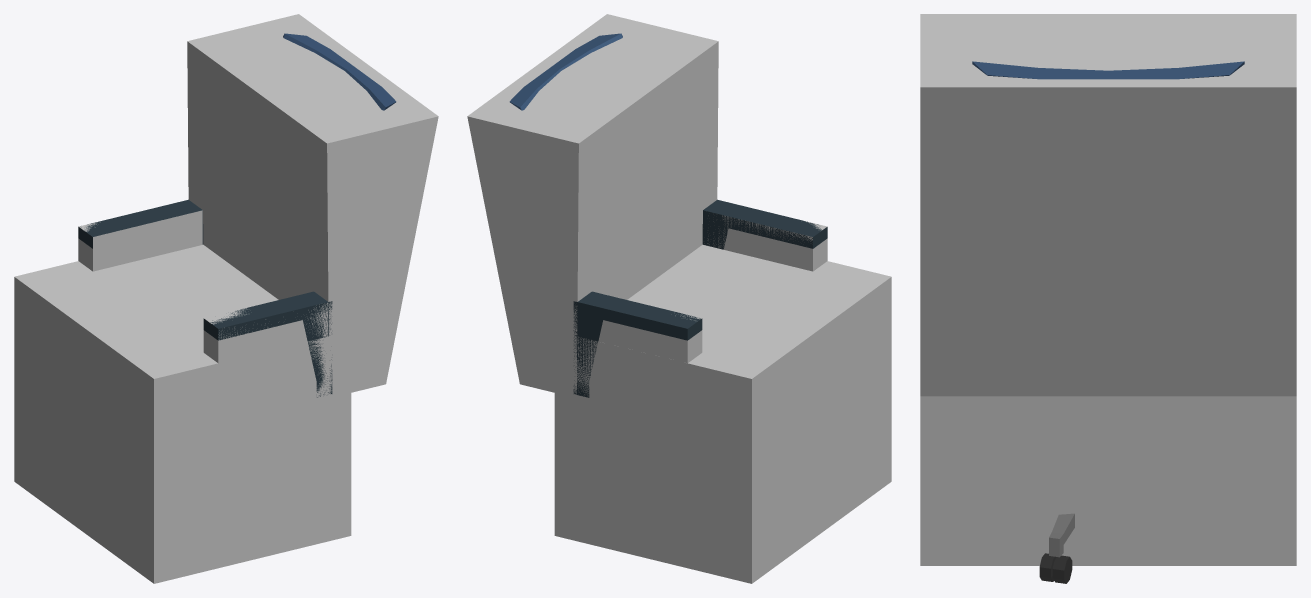
File: SM_Chairs_02.fbx
3 renders of one model, left to right at view 1: azimuth 30°, elevation 25°; view 2: azimuth 150°, elevation 25°; view 3: azimuth 270°, elevation 25°, orthographic. The views are drawn at different scales.
Visible parts, largest first — view 1: SM_Chairs_02_ConvexHulls, SM_Chairs_02; view 2: SM_Chairs_02_ConvexHulls, SM_Chairs_02; view 3: SM_Chairs_02_ConvexHulls, SM_Chairs_02.
Part boxes in pixels (x1,y1,x2,y2): SM_Chairs_02_ConvexHulls: (14, 14, 438, 583); SM_Chairs_02: (78, 33, 396, 397); SM_Chairs_02_ConvexHulls: (467, 14, 891, 583); SM_Chairs_02: (509, 33, 827, 397); SM_Chairs_02_ConvexHulls: (920, 14, 1296, 565); SM_Chairs_02: (972, 61, 1244, 583).
Size of the model in its own units: 98.46 by 83.78 by 133.
